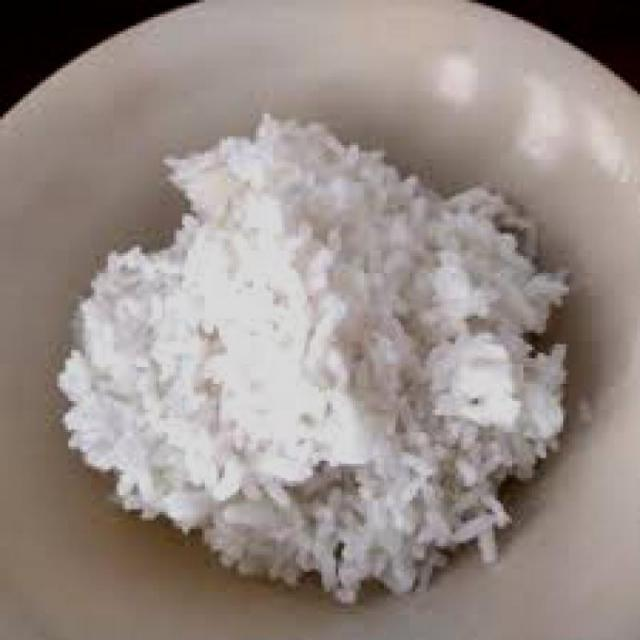Chicken -Chicken Inasal-: (62, 127, 576, 600)
